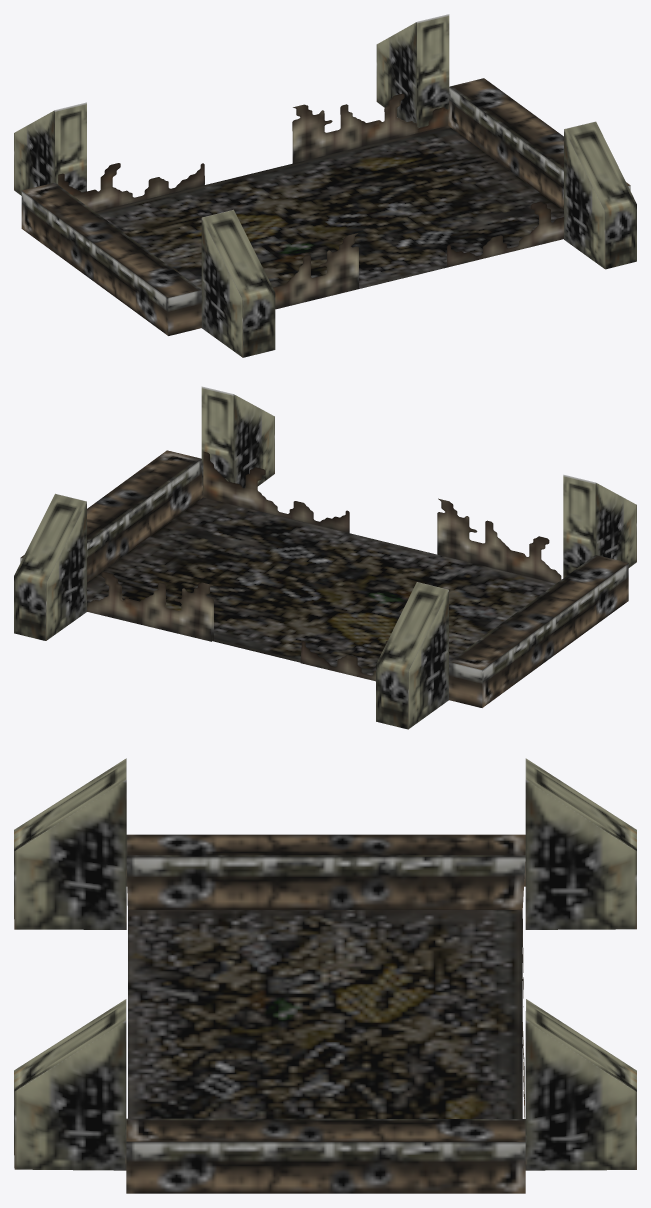
File: rpbuilding_dam.glb
The picture shows the model from 3 angles, top to bottom: view 1: azimuth 30°, elevation 25°; view 2: azimuth 150°, elevation 25°; view 3: azimuth 270°, elevation 25°; orthographic projection. The views are drawn at different scales.
Visible parts, largest first — view 1: Warehouse; view 2: Warehouse; view 3: Warehouse.
Part boxes in pixels (left/top/right/bottom): Warehouse: left=14, top=14, right=636, bottom=357; Warehouse: left=14, top=386, right=636, bottom=729; Warehouse: left=14, top=758, right=636, bottom=1193.
Size of the model in its own units: 24.73 by 5.66 by 21.21.
Materials: 1 (1 with a texture image).
